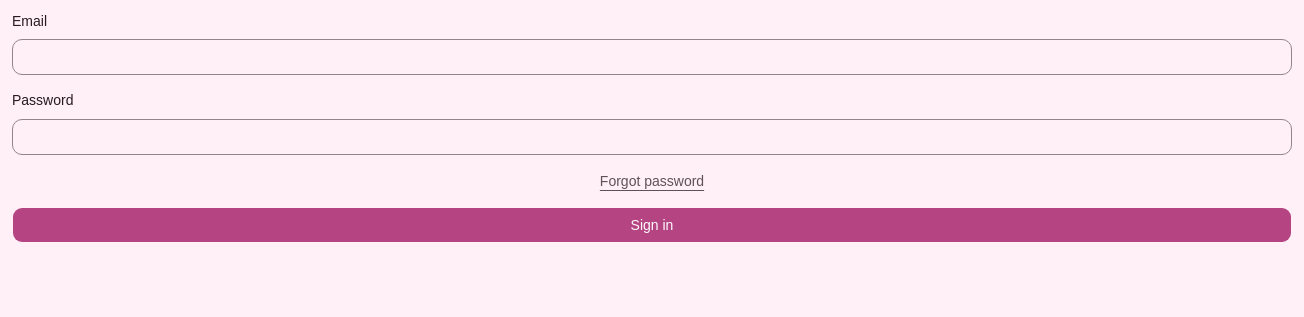
SignInForm › explains a lockout with the wait the function gave
This screenshot has width=1304, height=317.
Step 1. Type "dev-a@example.test" into the field labelled "Email" → (652, 57), box top-left (12, 39), bottom-right (1292, 75)
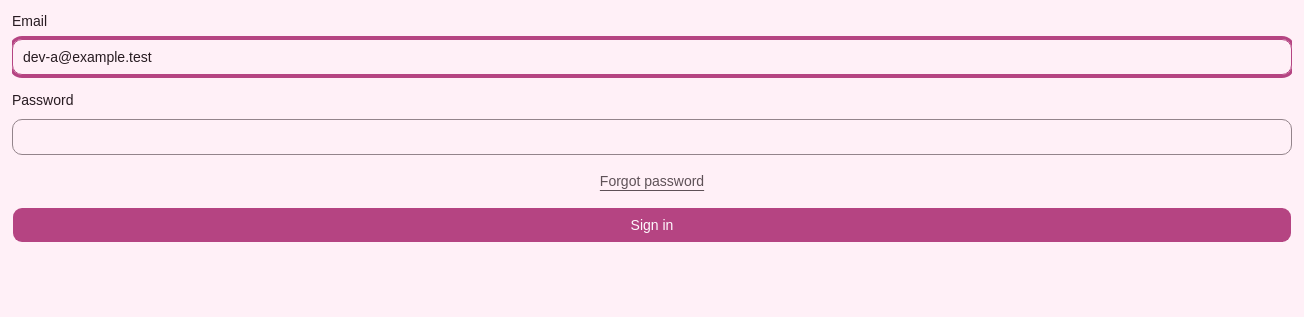
Step 2. Type "devpassword1234" into the password field labelled "Password" → (652, 136), box top-left (12, 118), bottom-right (1292, 154)
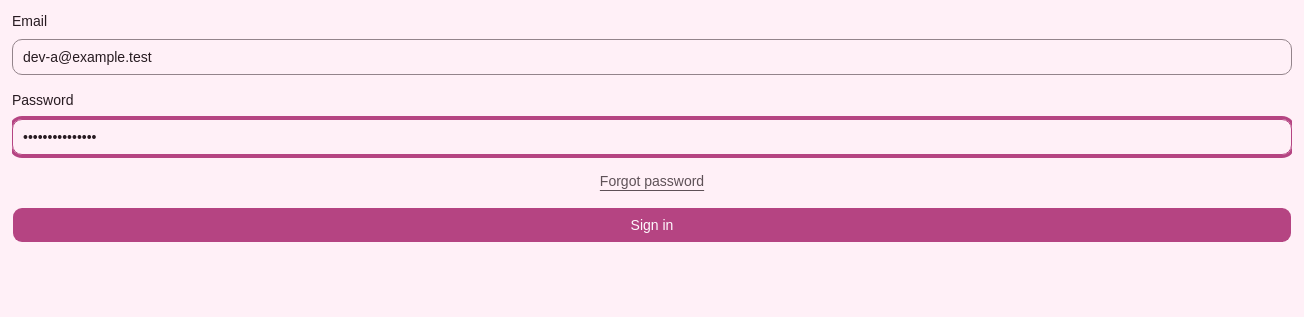
Step 3. Click the button "Sign in" → click(652, 224), box top-left (12, 206), bottom-right (1292, 242)
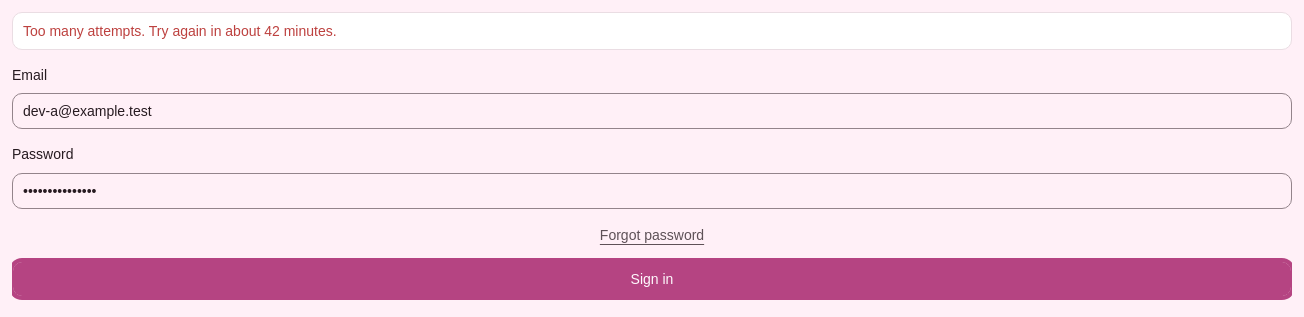
Check: the message reads "Too many attempts. Try again in about 42 minutes.", box top-left (23, 23), bottom-right (337, 39)
